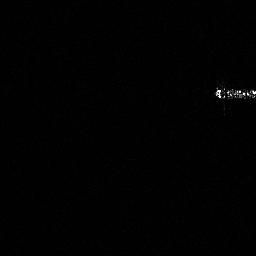ship: (211, 83, 256, 103)
